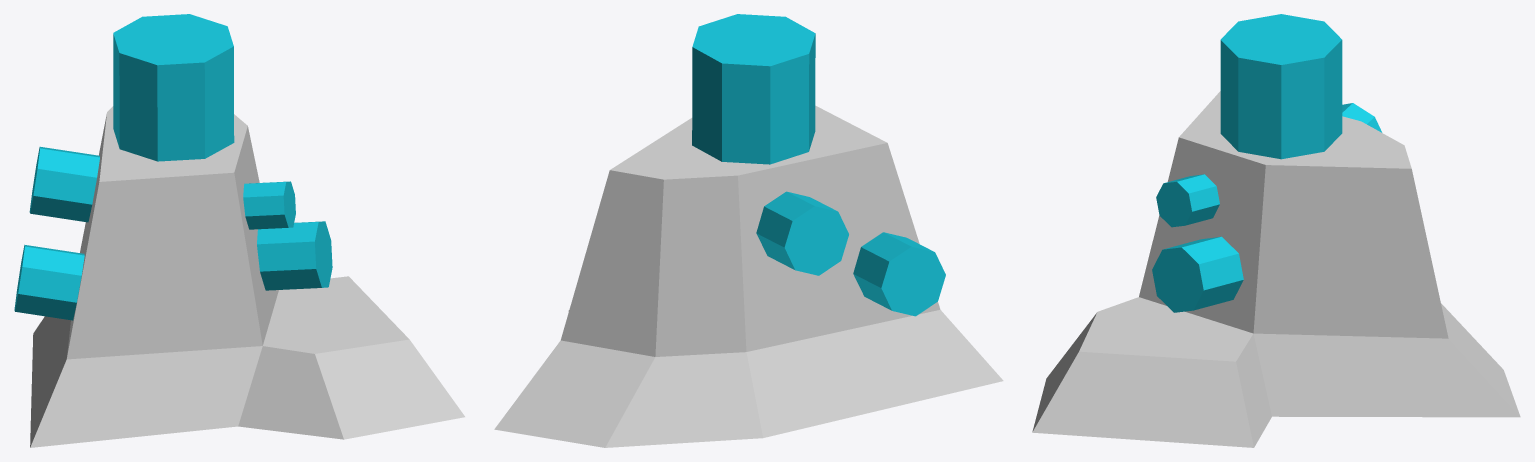
File: Diamante_Tipo3.fbx
The picture shows the model from 3 angles, left to right: view 1: azimuth 30°, elevation 25°; view 2: azimuth 150°, elevation 25°; view 3: azimuth 270°, elevation 25°; orthographic projection. The views are drawn at different scales.
Visible parts, largest first — view 1: base.023, diamante.006, diamante.008, diamante.010, diamante.009, diamante.007; view 2: base.023, diamante.006, diamante.010, diamante.009; view 3: base.023, diamante.006, diamante.008, diamante.007, diamante.010.
Boxes of the visible parts, <box> form: base.023: <box>30,106,464,447</box>; diamante.006: <box>113,14,234,161</box>; diamante.008: <box>257,221,332,290</box>; diamante.010: <box>29,146,99,222</box>; diamante.009: <box>14,244,84,320</box>; diamante.007: <box>243,181,295,229</box>; base.023: <box>494,105,1003,447</box>; diamante.006: <box>692,14,815,164</box>; diamante.010: <box>756,191,848,275</box>; diamante.009: <box>853,232,945,316</box>; base.023: <box>1032,91,1520,447</box>; diamante.006: <box>1220,14,1342,159</box>; diamante.008: <box>1152,236,1243,312</box>; diamante.007: <box>1156,174,1219,227</box>; diamante.010: <box>1342,103,1382,132</box>.
Bounding box in the file's own units: 75.27 × 59.71 × 83.81.
